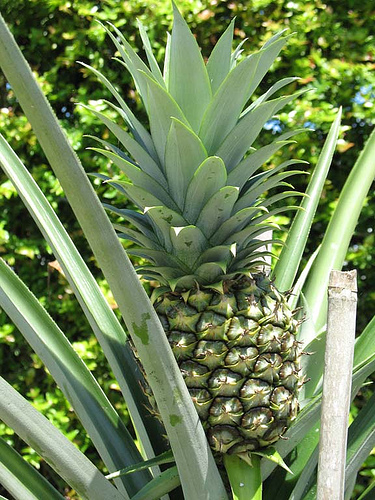pineapple: (78, 1, 310, 455)
